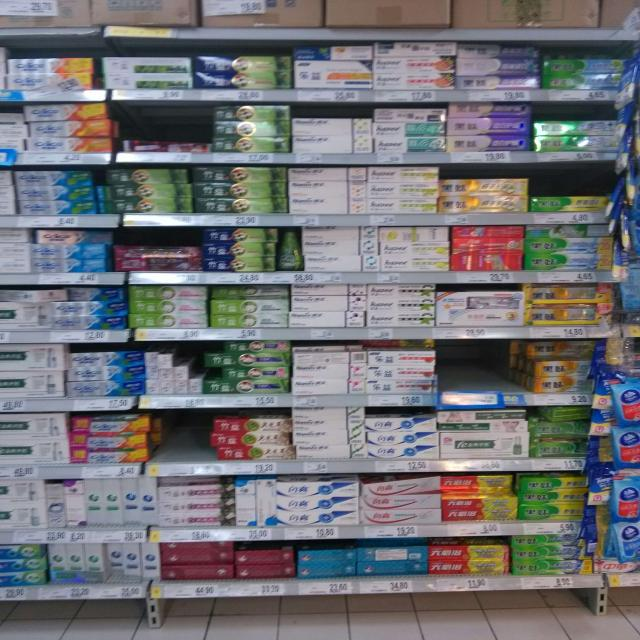void: (476, 343, 518, 405), (436, 341, 472, 403), (152, 413, 177, 477), (180, 413, 205, 475)
